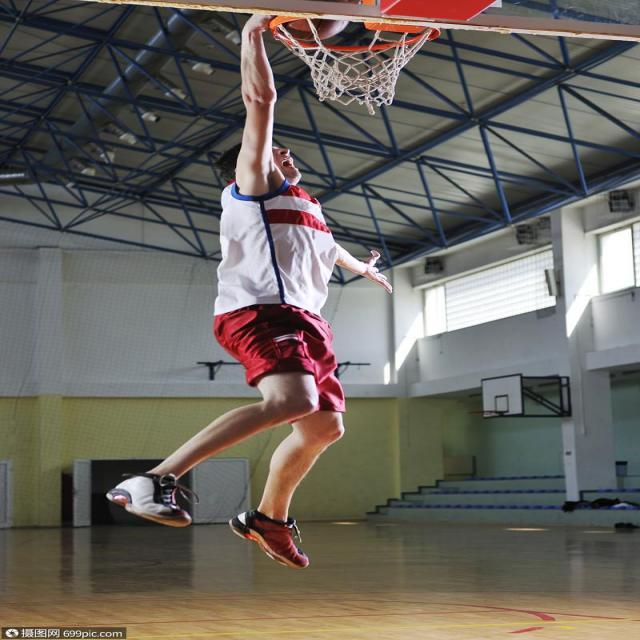rim: (261, 0, 348, 38)
